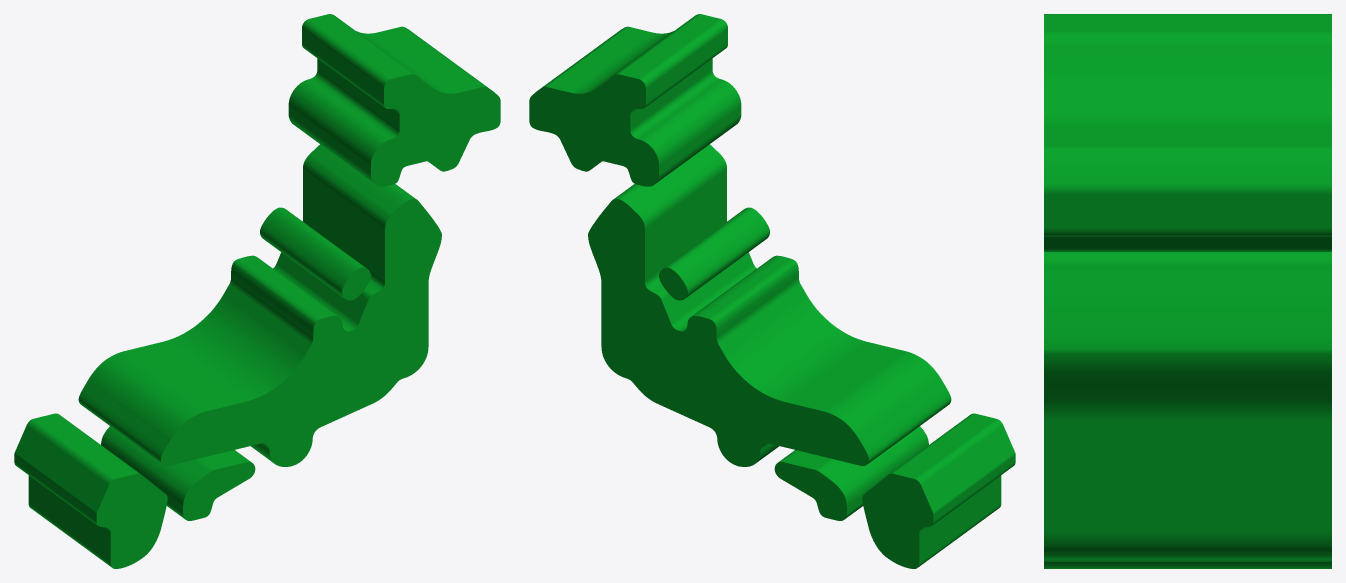
3 views of the same model, side by side, from view 1: azimuth 30°, elevation 25°; view 2: azimuth 150°, elevation 25°; view 3: azimuth 270°, elevation 25° (orthographic). The views are drawn at different scales.
Parts seen in each view (by area): view 1: U+1F5FE_layer00_obj00; view 2: U+1F5FE_layer00_obj00; view 3: U+1F5FE_layer00_obj00.
Part boxes in pixels (box(x1,y1,x2,y2)): U+1F5FE_layer00_obj00: box(14, 14, 500, 568); U+1F5FE_layer00_obj00: box(529, 14, 1015, 568); U+1F5FE_layer00_obj00: box(1044, 14, 1331, 568).
Size of the model in its own units: 0.5676 by 0.5683 by 0.2.
